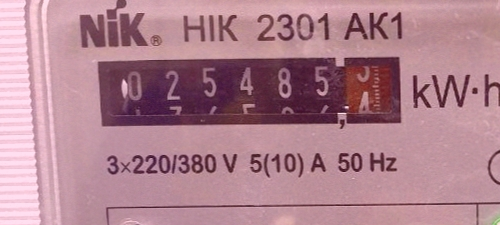0: (123, 69, 145, 104)
2: (162, 69, 183, 104)
4: (235, 65, 257, 99), (355, 90, 374, 118)
5: (310, 64, 332, 101), (198, 65, 219, 100)
8: (274, 64, 295, 103)
screen: (88, 50, 410, 140)
